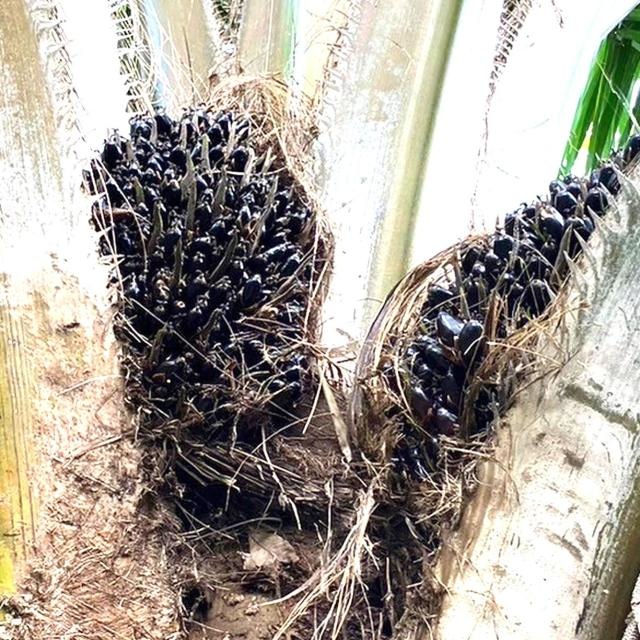unripe: (85, 104, 316, 448)
